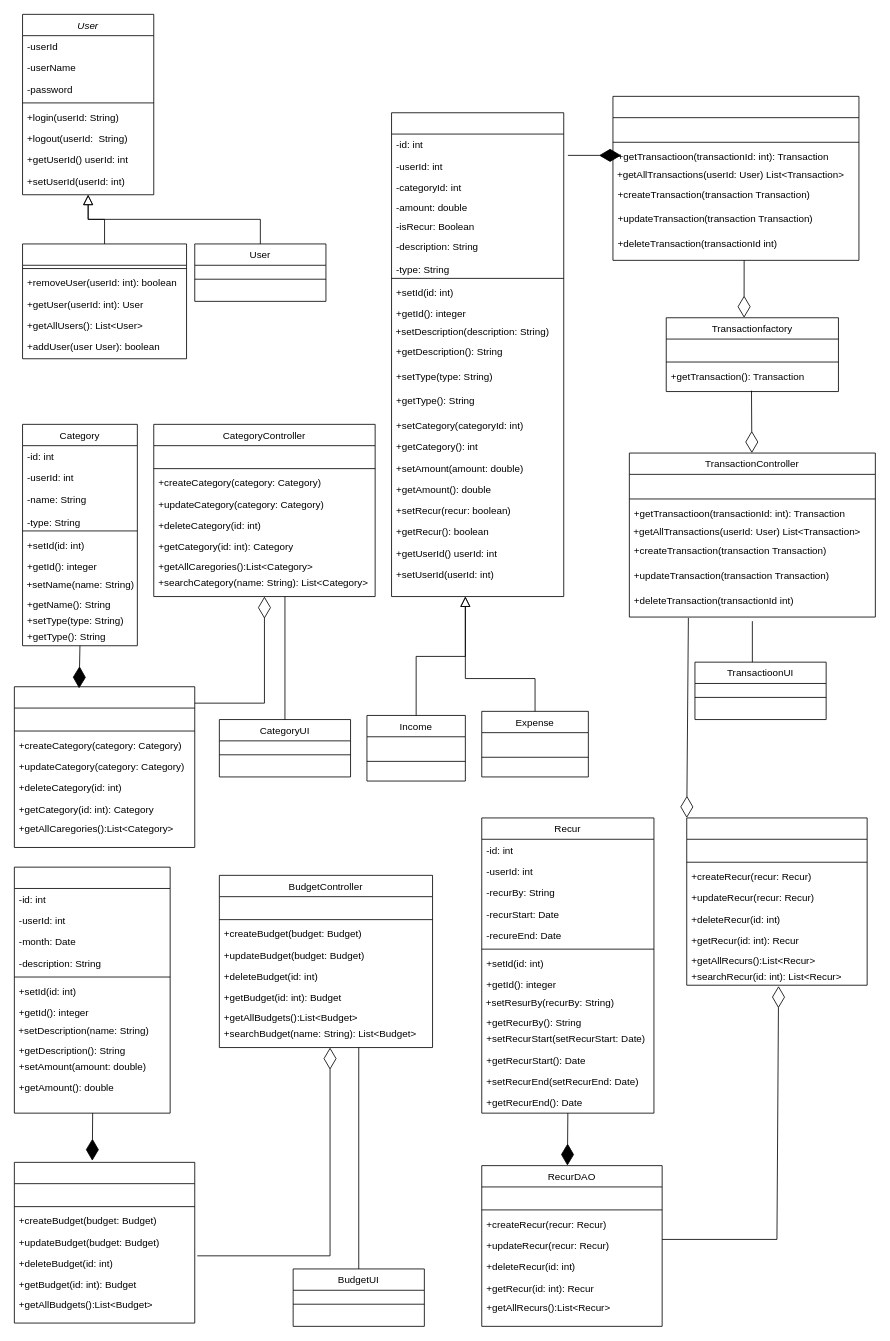
The diagram is 890 pixels wide and 1341 high, and some of its shapes have lost their labels. Here are the shapes that lost their labels. From the top down, the box of each, then its label:
(612, 96, 859, 260): TransactionDAO
(22, 243, 187, 359): Admin
(391, 112, 564, 597): Transaction
(14, 686, 195, 847): CategoryDAO
(686, 817, 867, 985): RecurContrller
(14, 866, 170, 1113): Budget
(14, 1162, 195, 1323): BudgetDAO
